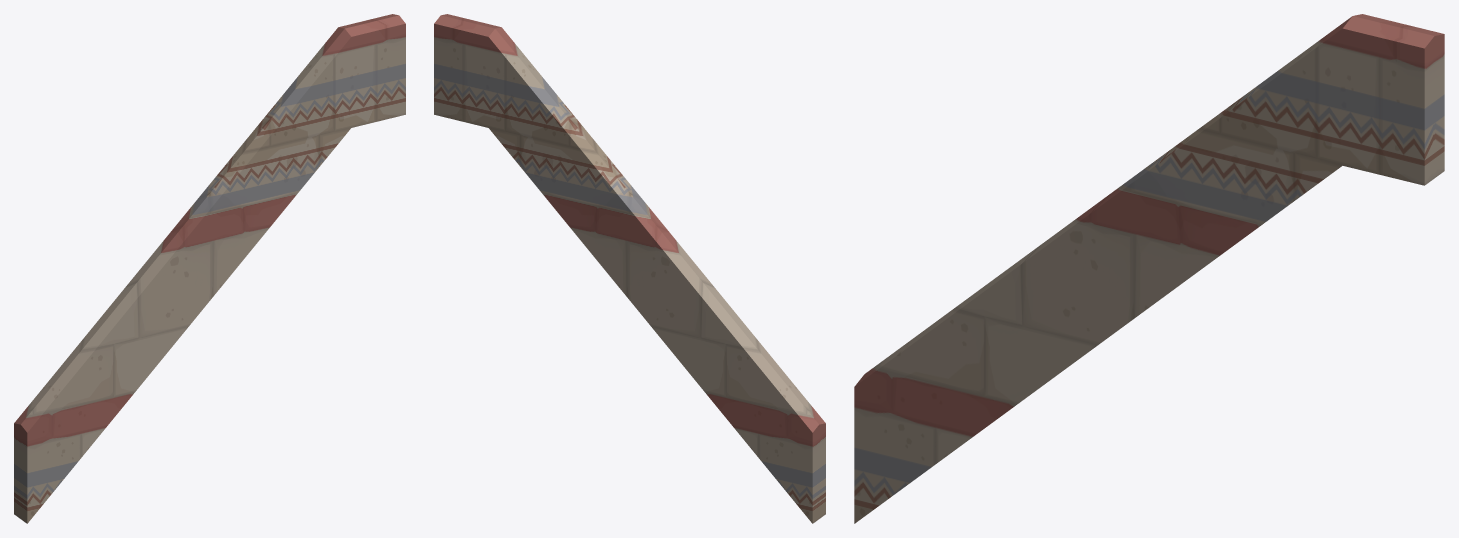
The model's file is SM_Bld_Wall_Balcony_Stairs_02.fbx.
3 renders of one model, left to right at view 1: azimuth 30°, elevation 25°; view 2: azimuth 150°, elevation 25°; view 3: azimuth 330°, elevation 25°, orthographic. The views are drawn at different scales.
Parts seen in each view (by area): view 1: SM_Bld_Wall_Balcony_Stairs_02; view 2: SM_Bld_Wall_Balcony_Stairs_02; view 3: SM_Bld_Wall_Balcony_Stairs_02.
Boxes of the visible parts, bbox=[...] form: SM_Bld_Wall_Balcony_Stairs_02: bbox=[14, 14, 405, 523]; SM_Bld_Wall_Balcony_Stairs_02: bbox=[434, 14, 825, 523]; SM_Bld_Wall_Balcony_Stairs_02: bbox=[854, 14, 1444, 523].
Bounding box in the file's own units: 375 × 390 × 22.63.
